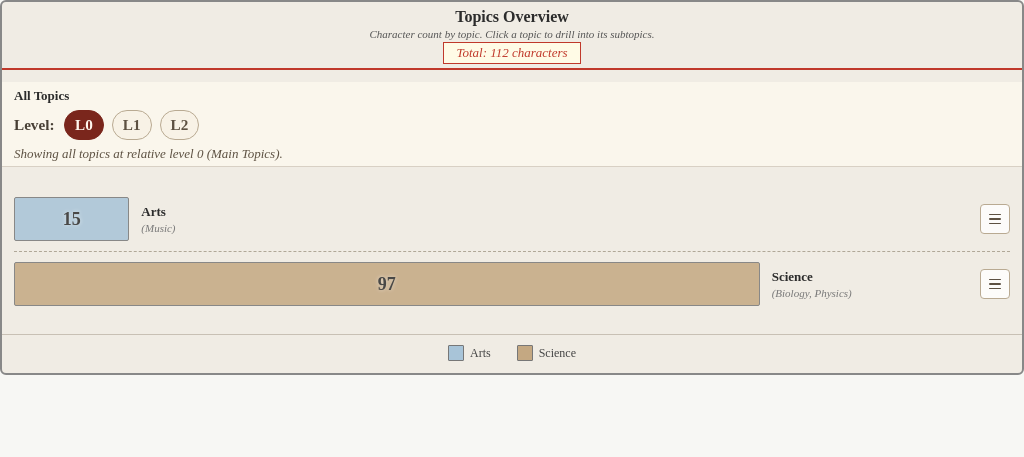
Test: TopicsBarChart › drills into a branch from a deeper level and resets to level 0
The width and height of the screenshot is (1024, 457).
Click the button "L1".
click(132, 125)  # box [112,110,152,140]
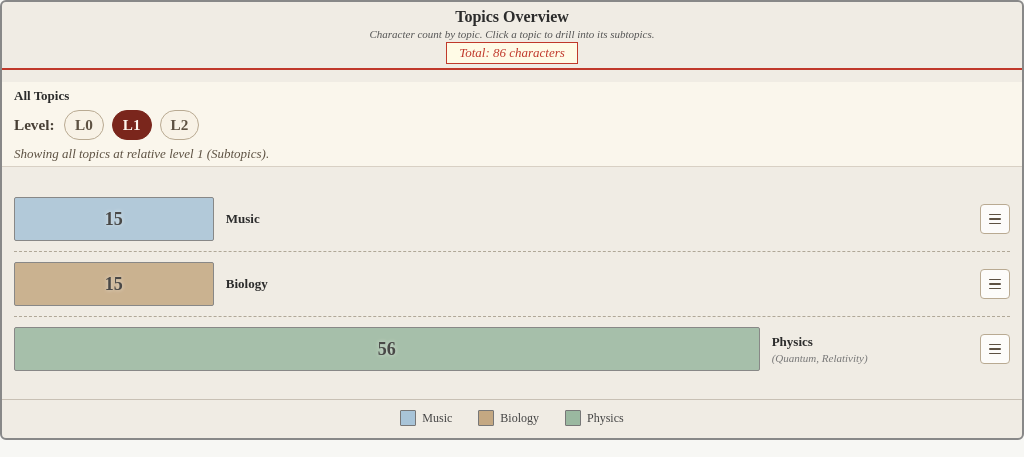
Click the button with test id "topics-bar-chart-row-science-physics".
click(492, 349)  # box [14,327,970,371]
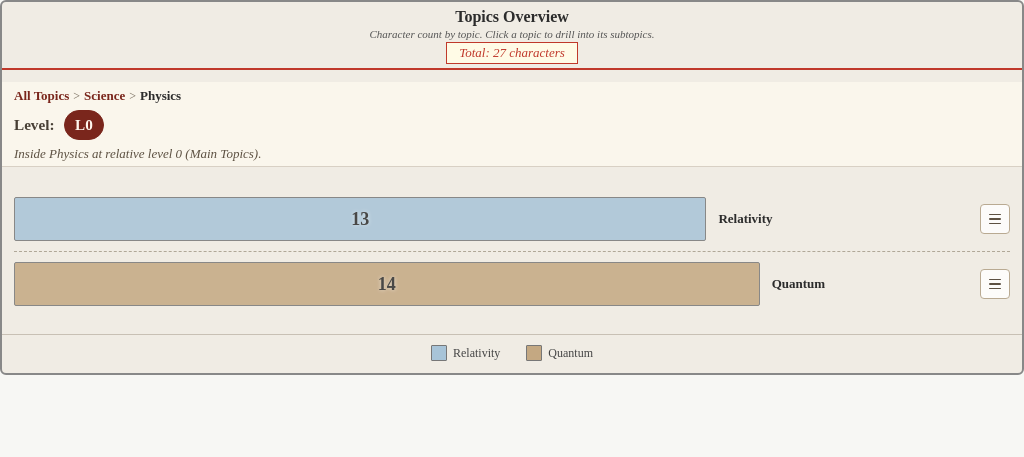
Expected: the button "Physics" is disabled, [140,88,181,104]
Expected: the text "Inside Physics at relative level 0 (Main Topics)." is shown, [14,146,261,161]
Expected: the 1st text "Quantum" is shown, [772,276,825,291]
